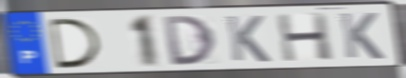1: (129, 13, 164, 70)
D: (46, 17, 105, 71), (160, 14, 219, 68)
H: (274, 12, 336, 64)
K: (223, 14, 273, 64), (337, 11, 386, 61)
